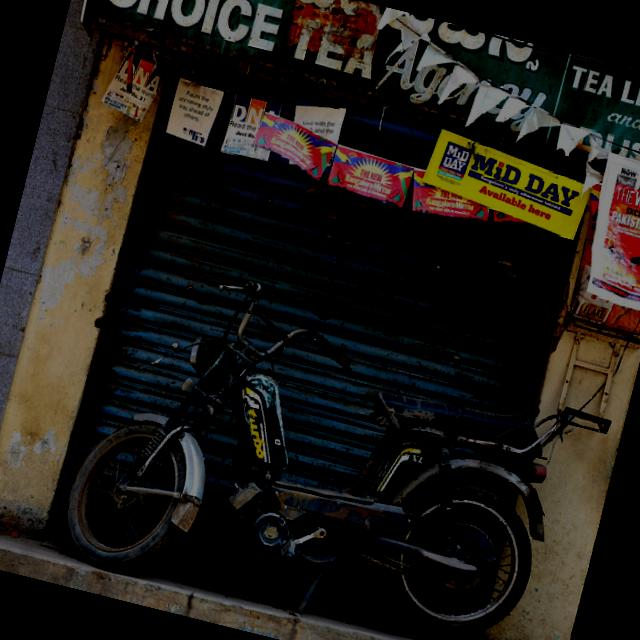Vehicle: (49, 244, 587, 640)
